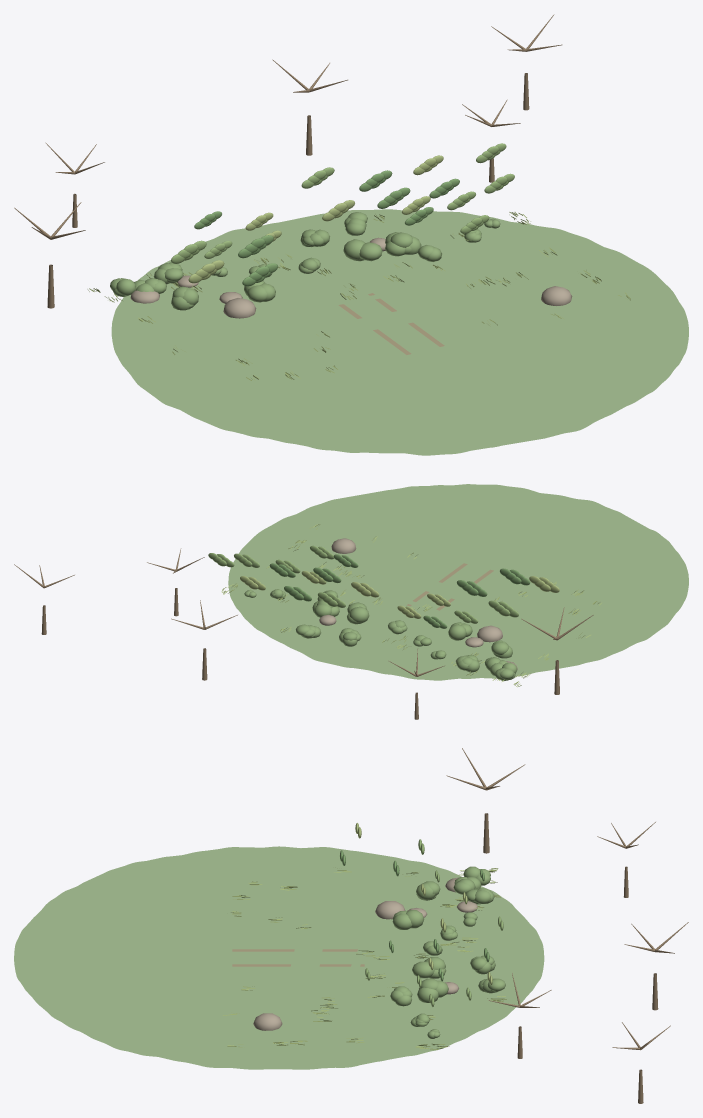
The model's file is bushveld-env.glb.
3 renders of one model, top to bottom at view 1: azimuth 30°, elevation 25°; view 2: azimuth 150°, elevation 25°; view 3: azimuth 270°, elevation 25°, orthographic. The views are drawn at different scales.
Visible parts, largest first — view 1: Ground; view 2: Ground; view 3: Ground.
Part boxes in pixels (<box>): Ground: <box>111,209,688,455</box>; Ground: <box>228,484,688,680</box>; Ground: <box>14,846,544,1069</box>.
Size of the model in its own units: 27.49 by 4.45 by 28.
